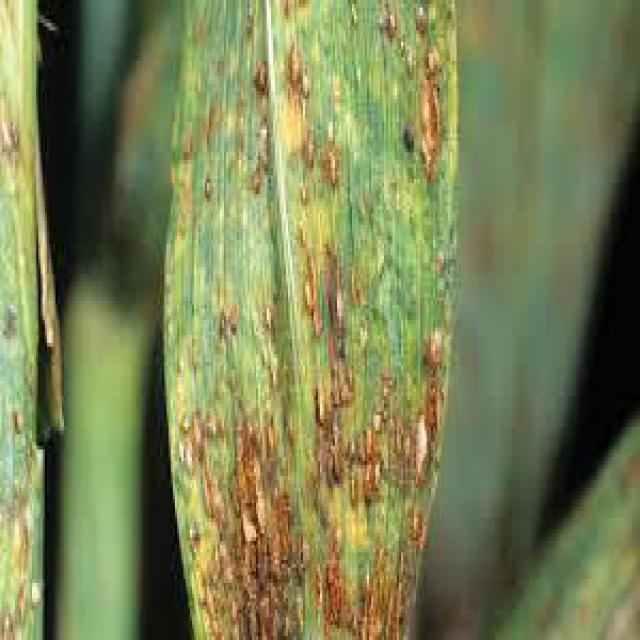wheat-stemrust: (160, 0, 459, 640)
